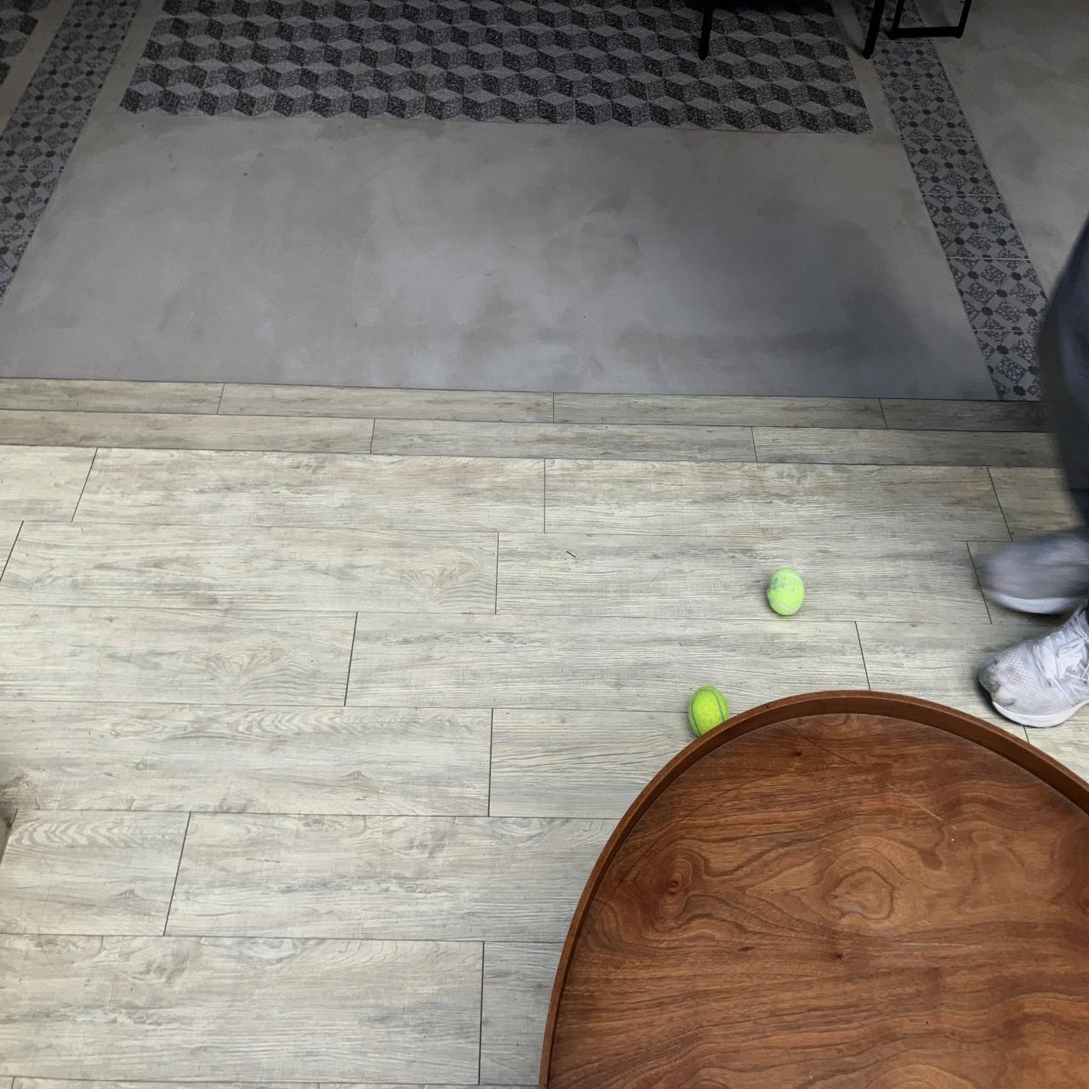tennisball: (264, 917, 302, 972), (355, 1022, 391, 1073)
